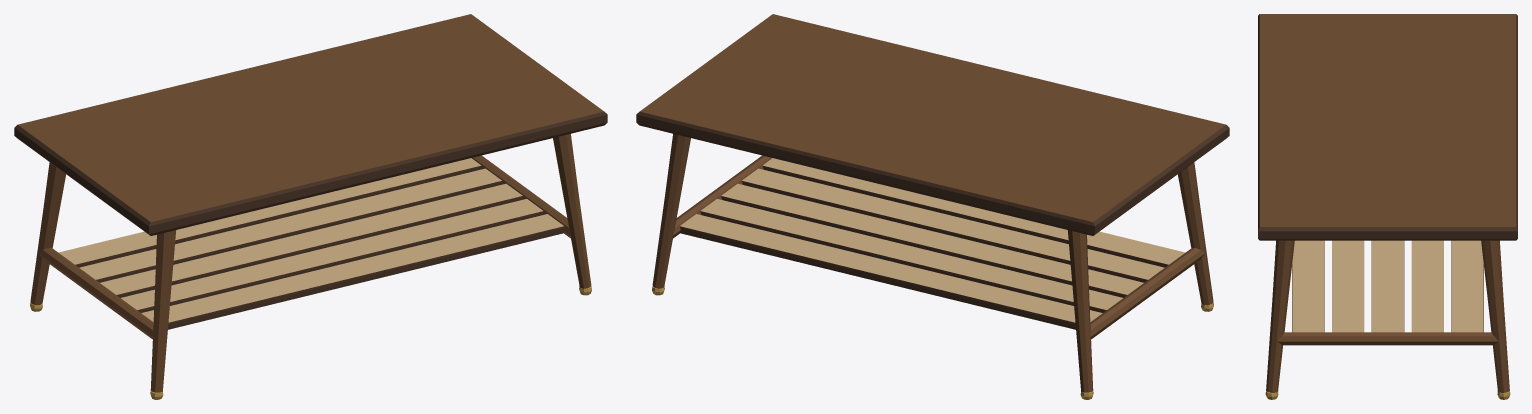
File: FN_Table_Coffee.obj
3 renders of one model, left to right at view 1: azimuth 30°, elevation 25°; view 2: azimuth 150°, elevation 25°; view 3: azimuth 270°, elevation 25°, orthographic. The views are drawn at different scales.
Visible parts, largest first — view 1: FN_Table_Coffee; view 2: FN_Table_Coffee; view 3: FN_Table_Coffee.
Boxes of the visible parts, bbox=[...] form: FN_Table_Coffee: bbox=[14, 14, 607, 399]; FN_Table_Coffee: bbox=[636, 14, 1229, 399]; FN_Table_Coffee: bbox=[1258, 14, 1517, 399].
Size of the model in its own units: 1.1 by 0.42 by 0.56.
Materials: 1 (1 with a texture image).
